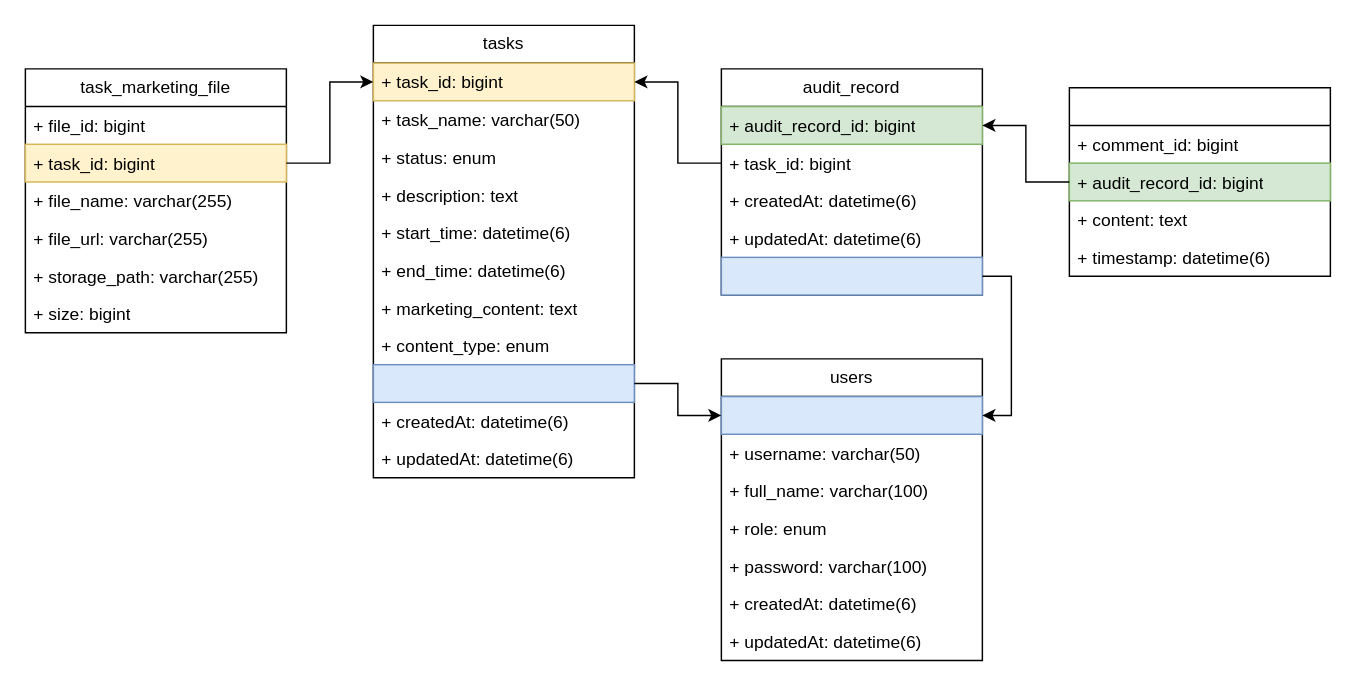
Image size: 1356x690. Some labels were removed from this diagram. Here are the shapes that lost their labels. From the top down, the box of each, then its label:
(1068, 86, 1330, 276): audit_comment
(720, 256, 982, 295): + auditor_id: bigint
(372, 363, 634, 402): + creator_id: bigint
(720, 395, 982, 434): + user_id: bigint
